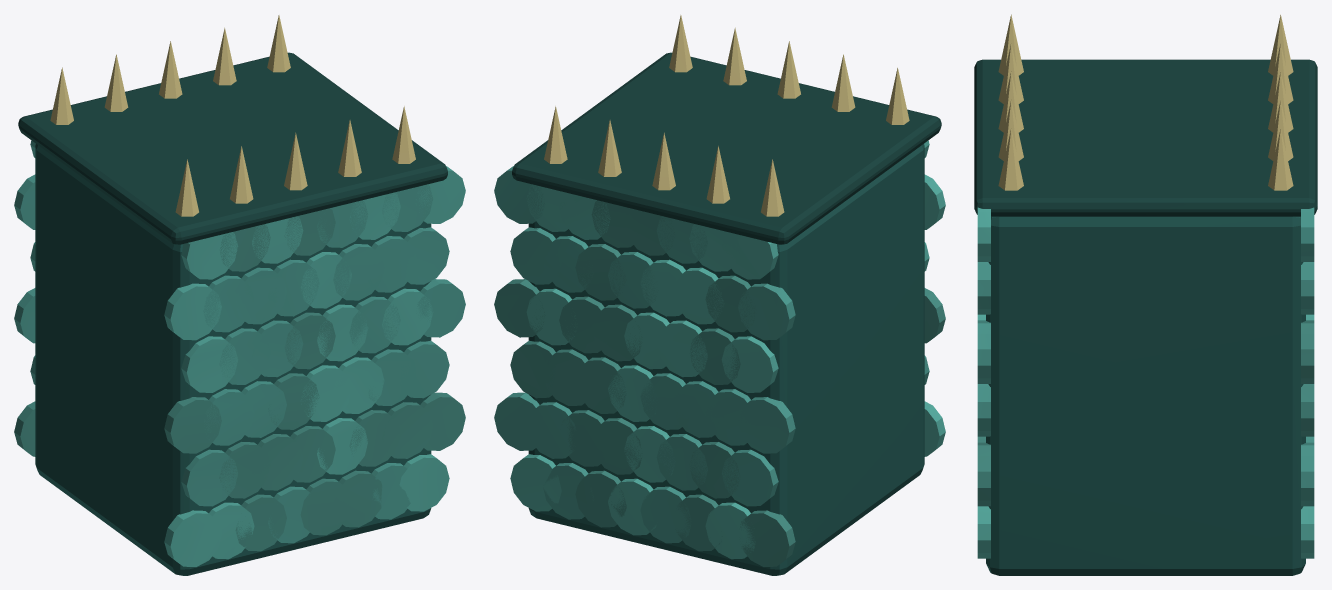
File: gym_wall_dragon_lite.glb
3 renders of one model, left to right at view 1: azimuth 30°, elevation 25°; view 2: azimuth 150°, elevation 25°; view 3: azimuth 270°, elevation 25°, orthographic. The views are drawn at different scales.
Visible parts, largest first — view 1: Cube; view 2: Cube; view 3: Cube.
Part boxes in pixels (x1,y1,x2,y2): Cube: [14, 15, 465, 575]; Cube: [494, 15, 945, 575]; Cube: [974, 14, 1317, 575].
Size of the model in its own units: 2.18 by 2.9 by 2.04.
